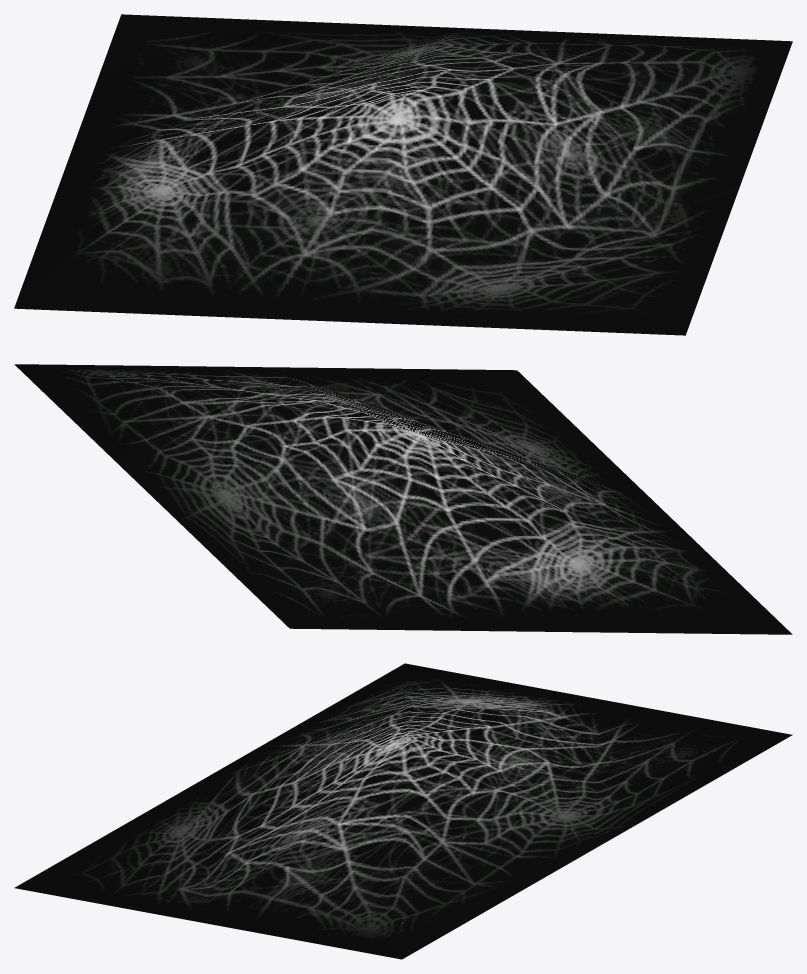
Rendered from MIRKWOOD_PLANE34.fbx.
The picture shows the model from 3 angles, top to bottom: view 1: azimuth 30°, elevation 25°; view 2: azimuth 150°, elevation 25°; view 3: azimuth 270°, elevation 25°; orthographic projection.
Visible parts, largest first — view 1: MIRKWOOD_PLANE34; view 2: MIRKWOOD_PLANE34; view 3: MIRKWOOD_PLANE34.
Boxes of the visible parts, bbox=[...] form: MIRKWOOD_PLANE34: bbox=[14, 14, 792, 335]; MIRKWOOD_PLANE34: bbox=[14, 364, 792, 634]; MIRKWOOD_PLANE34: bbox=[14, 663, 792, 959].
Bounding box in the file's own units: 150348 × 20829 × 132421.
Materials: 1 (1 with a texture image).
